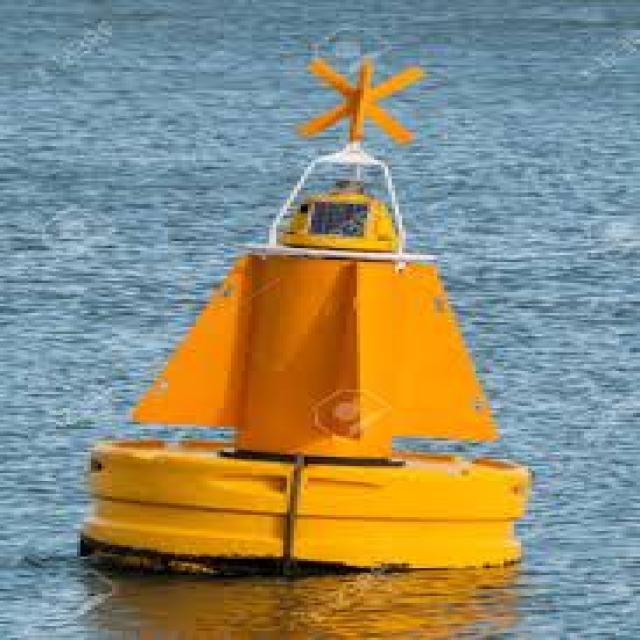2.5 sepcial mark: (24, 32, 593, 584)
